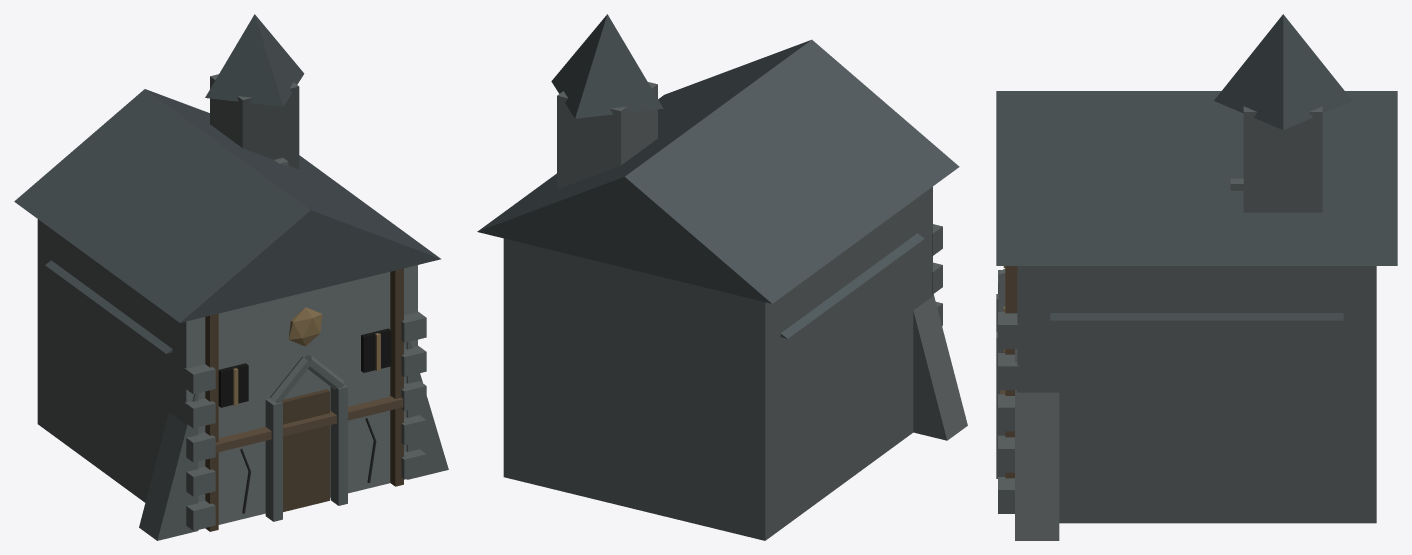
Rendered from props.glb.
3 views of the same model, side by side, from view 1: azimuth 30°, elevation 25°; view 2: azimuth 150°, elevation 25°; view 3: azimuth 270°, elevation 25° (orthographic). The views are drawn at different scales.
Parts seen in each view (by area): view 1: PROP_001_SanctuaryChapel, PROP_000_RefugeHouse; view 2: PROP_001_SanctuaryChapel, PROP_000_RefugeHouse; view 3: PROP_001_SanctuaryChapel, PROP_000_RefugeHouse.
Boxes of the visible parts, x1,y1,x2,y2 form: PROP_001_SanctuaryChapel: (14, 14, 448, 540); PROP_000_RefugeHouse: (45, 157, 288, 353); PROP_001_SanctuaryChapel: (477, 14, 967, 540); PROP_000_RefugeHouse: (780, 233, 924, 338); PROP_001_SanctuaryChapel: (996, 14, 1397, 540); PROP_000_RefugeHouse: (1050, 178, 1343, 320).
Size of the model in its own units: 3.4 by 4.42 by 3.35.
